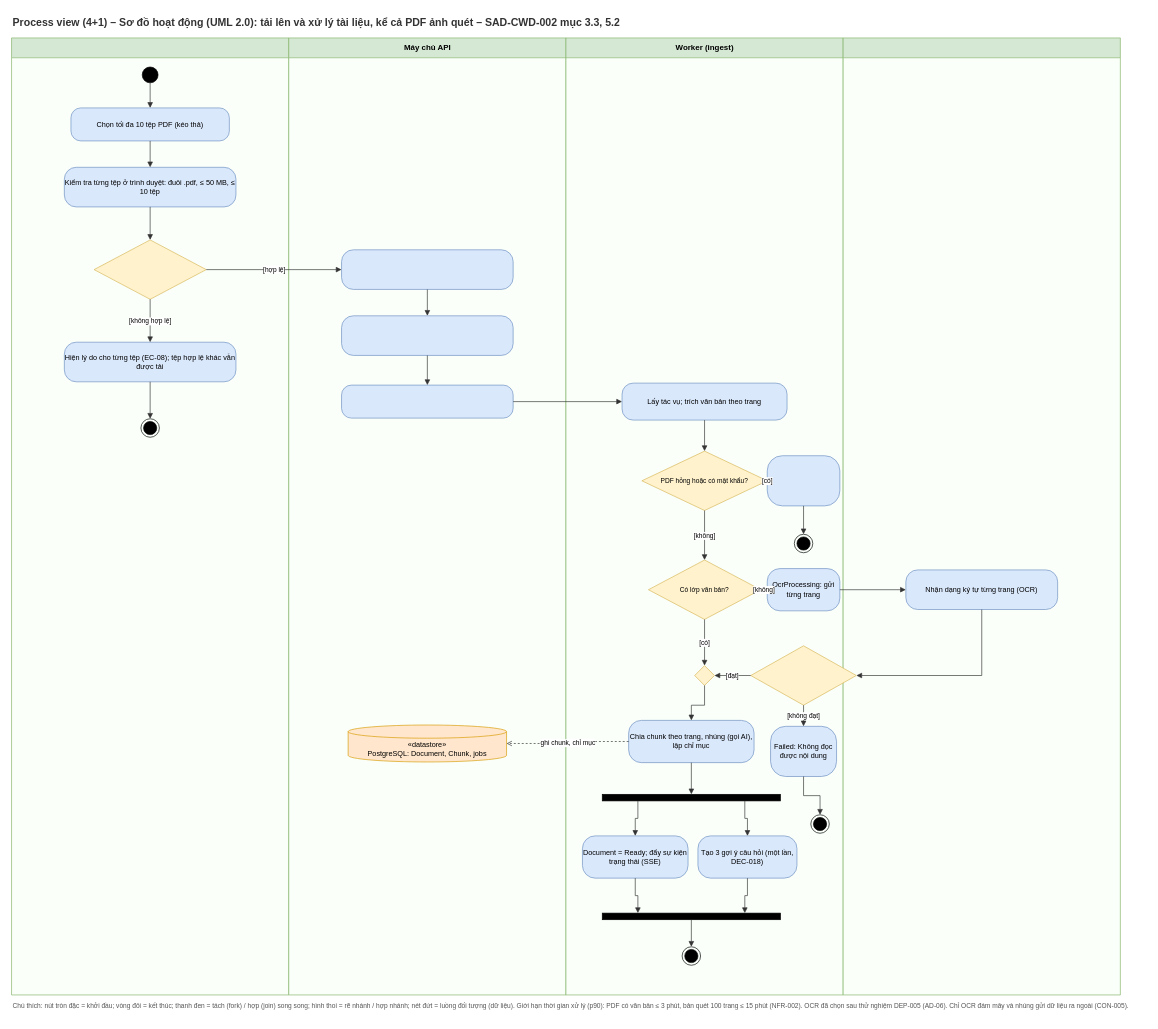
This 1158x1029 diagram has some shape labels left out. Each missing label, with the box of its shape:
Dịch vụ OCR / AI (bên ngoài): (842, 37, 1120, 995)
Failed: Tệp bị hỏng / có mật khẩu: (767, 455, 840, 506)
Lưu tệp; tạo Document = Processing; trả 202: (341, 315, 513, 355)
Nhận tệp; kiểm tra lại đuôi và kích thước (DD-05): (341, 249, 513, 289)
Trưởng nhóm BD (giao diện): (11, 37, 289, 995)
Tệp hợp lệ?: (93, 239, 206, 299)
Đưa tác vụ ingest vào hàng đợi (jobs): (341, 384, 513, 418)
Đạt ngưỡng NFR-011?: (750, 645, 856, 705)
